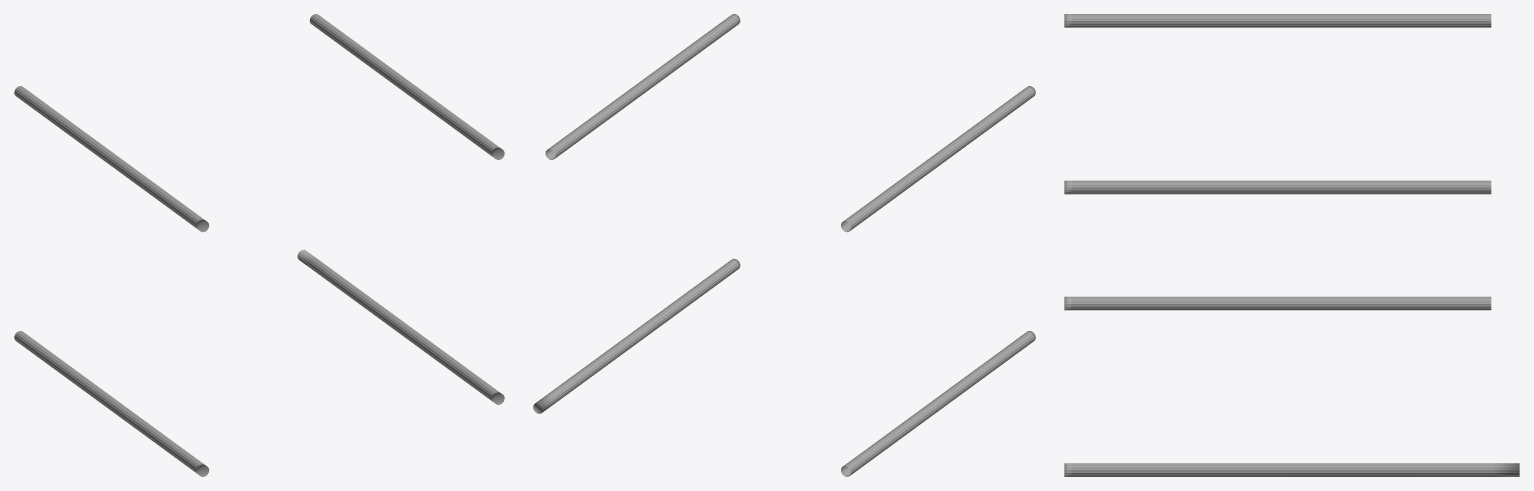
Rendered from TablemeshDiningTable_021_0_GeomSubset_1.obj.
3 renders of one model, left to right at view 1: azimuth 30°, elevation 25°; view 2: azimuth 150°, elevation 25°; view 3: azimuth 270°, elevation 25°, orthographic. The views are drawn at different scales.
Parts seen in each view (by area): view 1: TablemeshDiningTable_021_0_GeomSubset_1; view 2: TablemeshDiningTable_021_0_GeomSubset_1; view 3: TablemeshDiningTable_021_0_GeomSubset_1.
Part boxes in pixels (x1,y1,x2,y2): TablemeshDiningTable_021_0_GeomSubset_1: (14,14,504,476); TablemeshDiningTable_021_0_GeomSubset_1: (533,14,1035,476); TablemeshDiningTable_021_0_GeomSubset_1: (1064,14,1519,476).
Size of the model in its own units: 0.7684 by 0.6138 by 0.8577.
